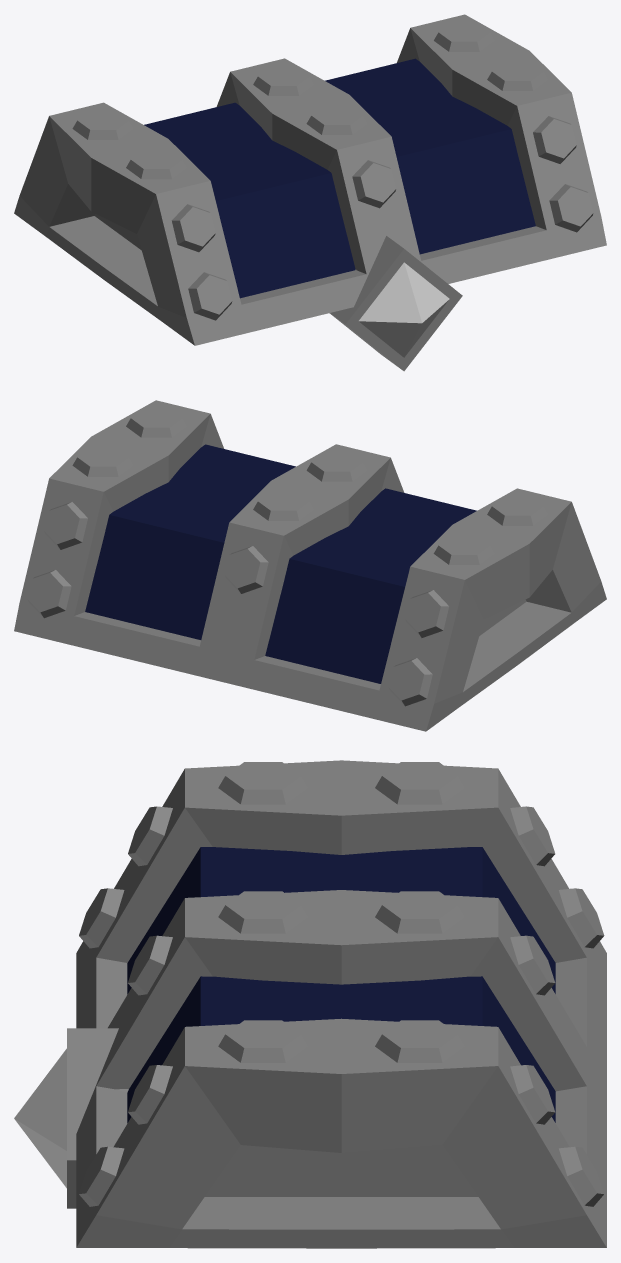
The model's file is chest_silver_top.obj.
3 renders of one model, top to bottom at view 1: azimuth 30°, elevation 25°; view 2: azimuth 150°, elevation 25°; view 3: azimuth 270°, elevation 25°, orthographic. The views are drawn at different scales.
Parts seen in each view (by area): view 1: chest_silver_top_Cube.048_silverMetal, chest_silver_top_Cube.048_lightBlue, chest_silver_top_Cube.048_silverchestCrystal; view 2: chest_silver_top_Cube.048_silverMetal, chest_silver_top_Cube.048_lightBlue; view 3: chest_silver_top_Cube.048_silverMetal, chest_silver_top_Cube.048_lightBlue, chest_silver_top_Cube.048_silverchestCrystal.
Part boxes in pixels (left/top/right/bottom): chest_silver_top_Cube.048_silverMetal: left=14, top=14, right=606, bottom=371; chest_silver_top_Cube.048_lightBlue: left=144, top=58, right=535, bottom=298; chest_silver_top_Cube.048_silverchestCrystal: left=358, top=262, right=449, bottom=357; chest_silver_top_Cube.048_silverMetal: left=14, top=400, right=606, bottom=731; chest_silver_top_Cube.048_lightBlue: left=85, top=444, right=476, bottom=683; chest_silver_top_Cube.048_silverMetal: left=67, top=760, right=606, bottom=1248; chest_silver_top_Cube.048_lightBlue: left=127, top=847, right=555, bottom=1122; chest_silver_top_Cube.048_silverchestCrystal: left=14, top=1048, right=66, bottom=1188.
Size of the model in its own units: 1.06 by 0.4789 by 0.848.
